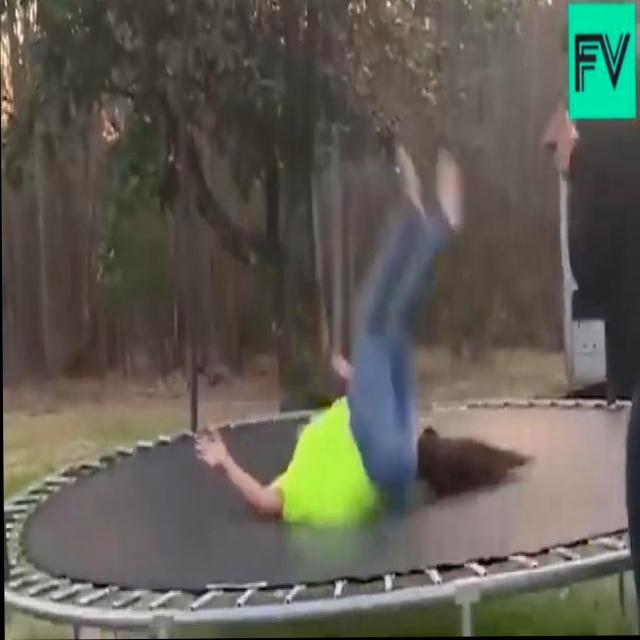fall: (189, 141, 458, 525)
